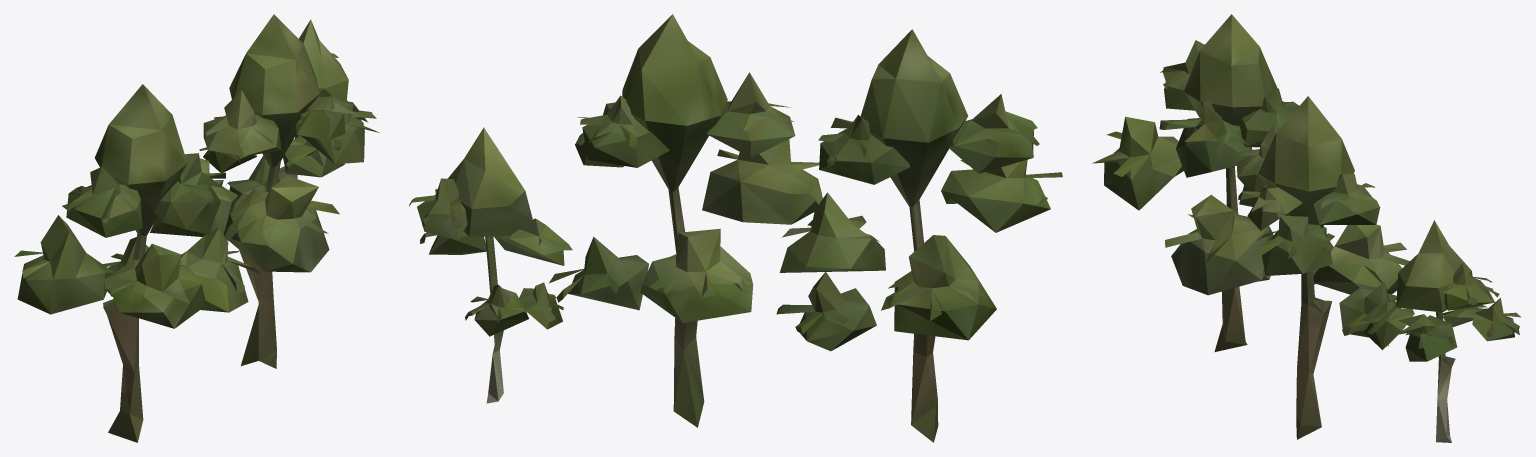
The model's file is tree_03_game_lod1.glb.
3 views of the same model, side by side, from view 1: azimuth 30°, elevation 25°; view 2: azimuth 150°, elevation 25°; view 3: azimuth 270°, elevation 25° (orthographic). The views are drawn at different scales.
Parts seen in each view (by area): view 1: geometry_0; view 2: geometry_0; view 3: geometry_0.
Part boxes in pixels (bbox=[...]): geometry_0: bbox=[14, 14, 379, 442]; geometry_0: bbox=[409, 14, 1062, 442]; geometry_0: bbox=[1092, 14, 1520, 442].
Bounding box in the file's own units: 15.61 × 12.4 × 13.99.
1 material, 1 textured.
